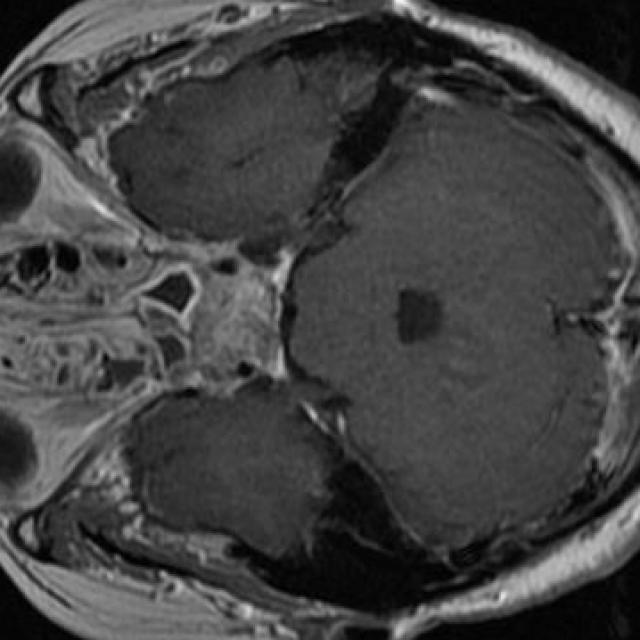pituitary: (187, 271, 276, 374)
